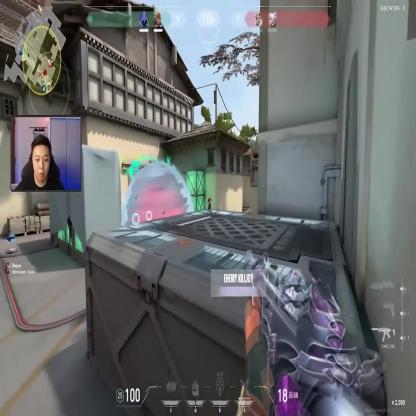enemy: (207, 196, 212, 218)
enemy_head: (208, 196, 210, 199)
